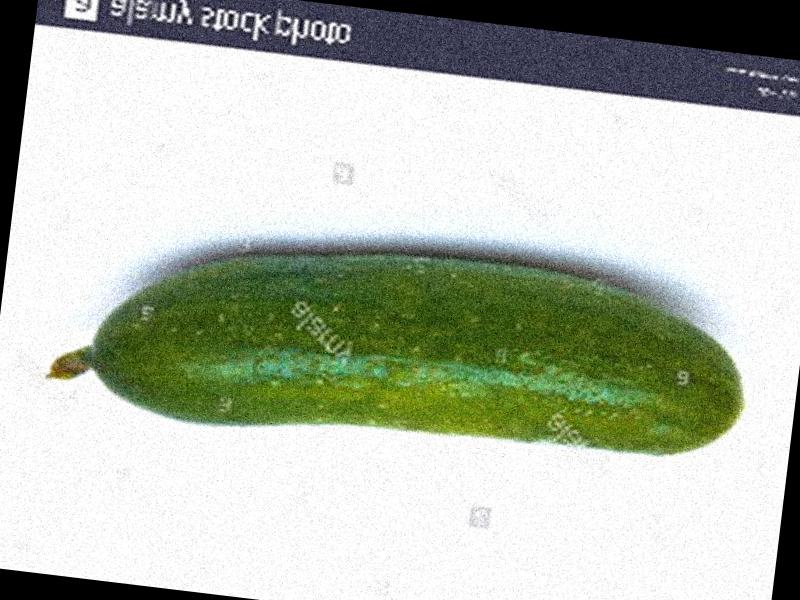Cucumber: (42, 211, 759, 489)
